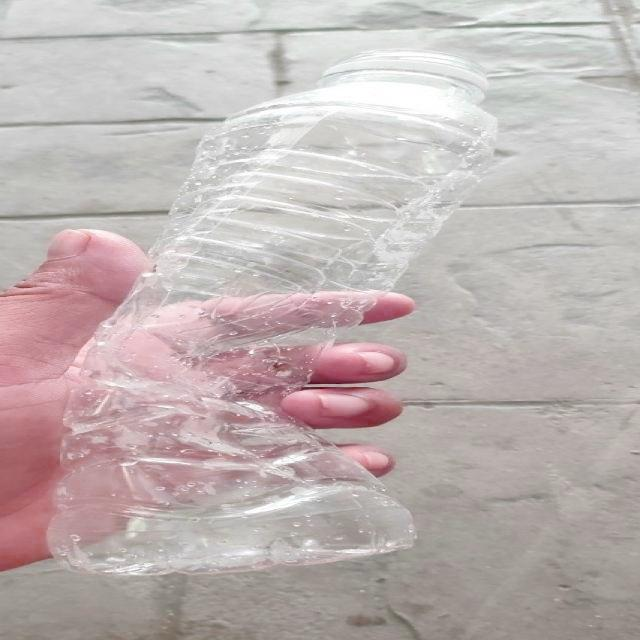bottle: (44, 50, 498, 576)
